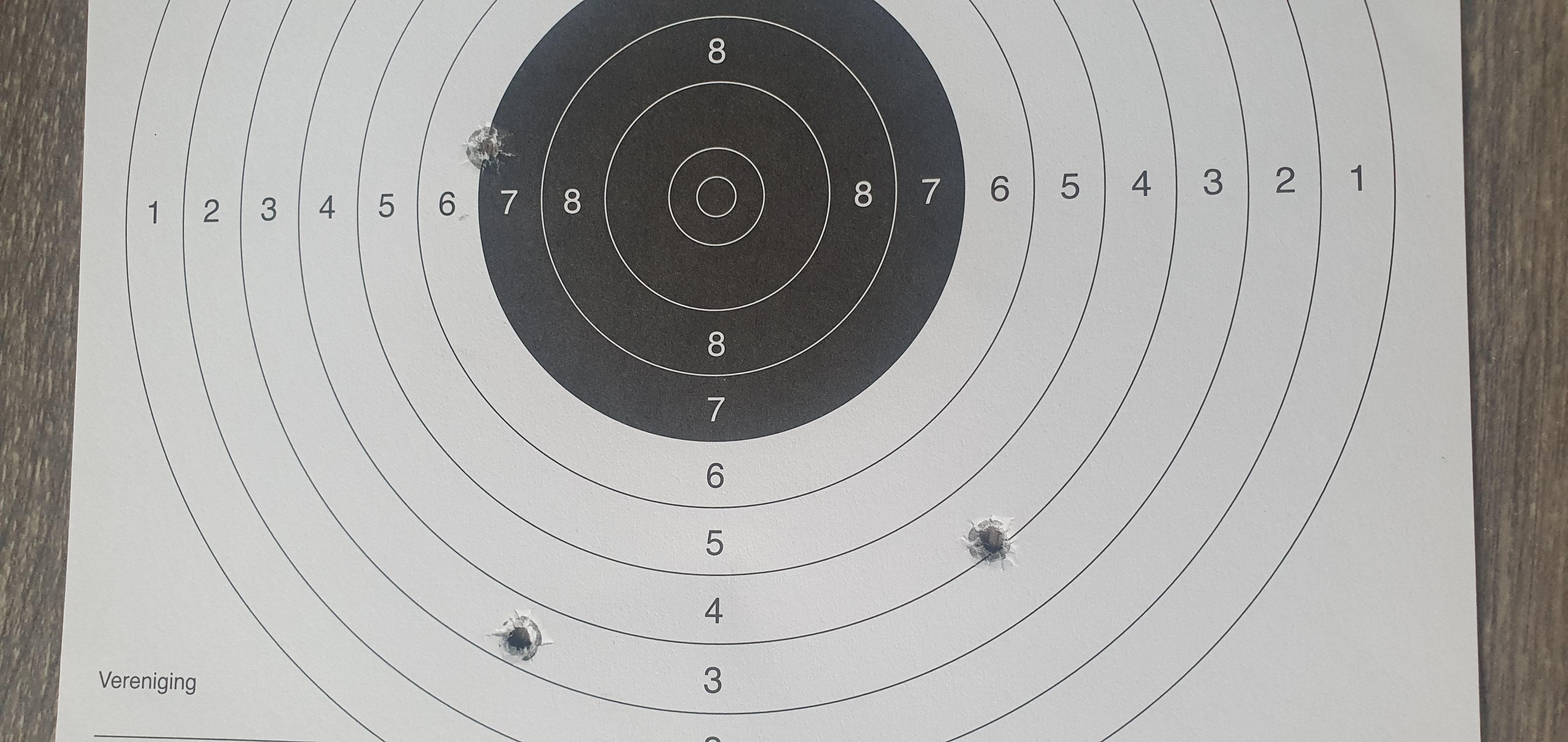hole: (160, 230, 281, 263), (1204, 213, 1311, 248), (370, 455, 488, 481)
